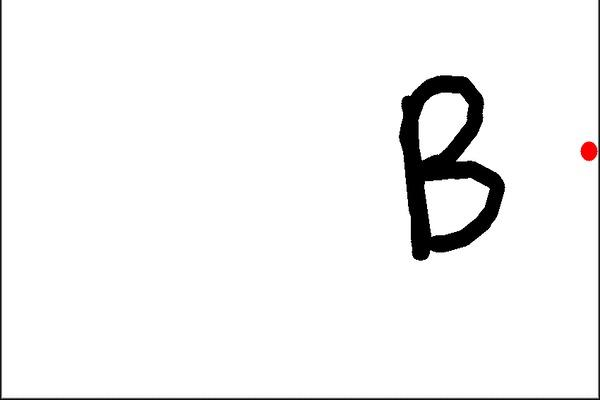B: (384, 66, 517, 268)
